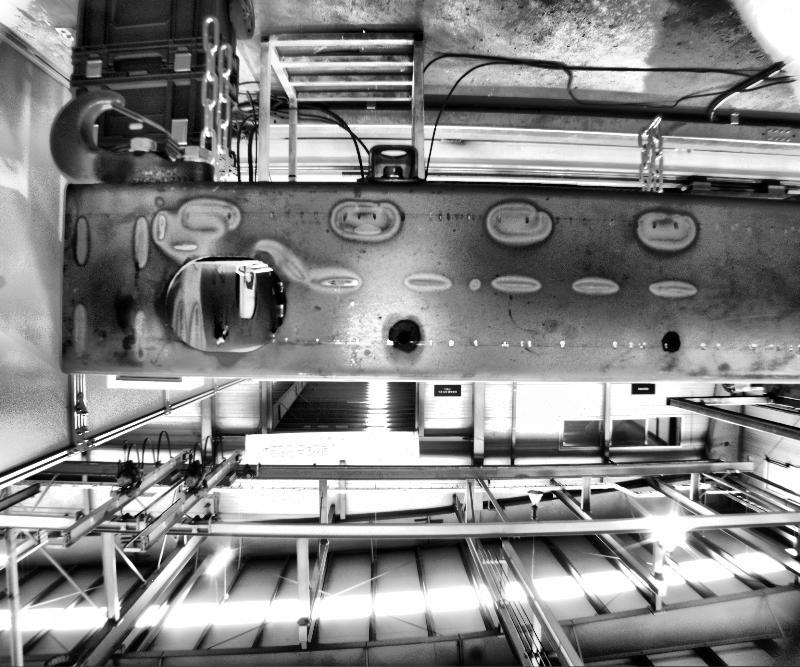bolt: (382, 164, 403, 177)
bracket: (350, 138, 434, 181)
hole: (157, 255, 289, 354), (395, 330, 413, 347), (666, 335, 678, 348)
